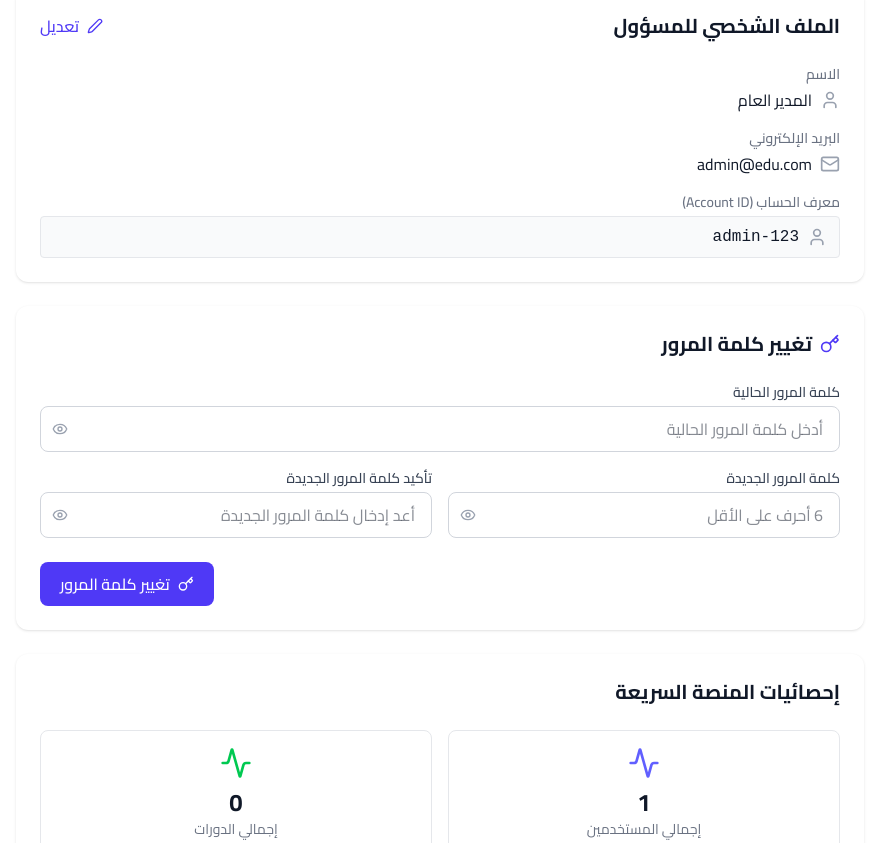
Scenario: AdminProfilePage - Password Change Component › shows validation error when fields are empty
The image size is (881, 843).
What coordinates should you click on to do the following:
click the button "تغيير كلمة المرور"
I would click on:
 (127, 584)
Its box is [40,562,214,606].
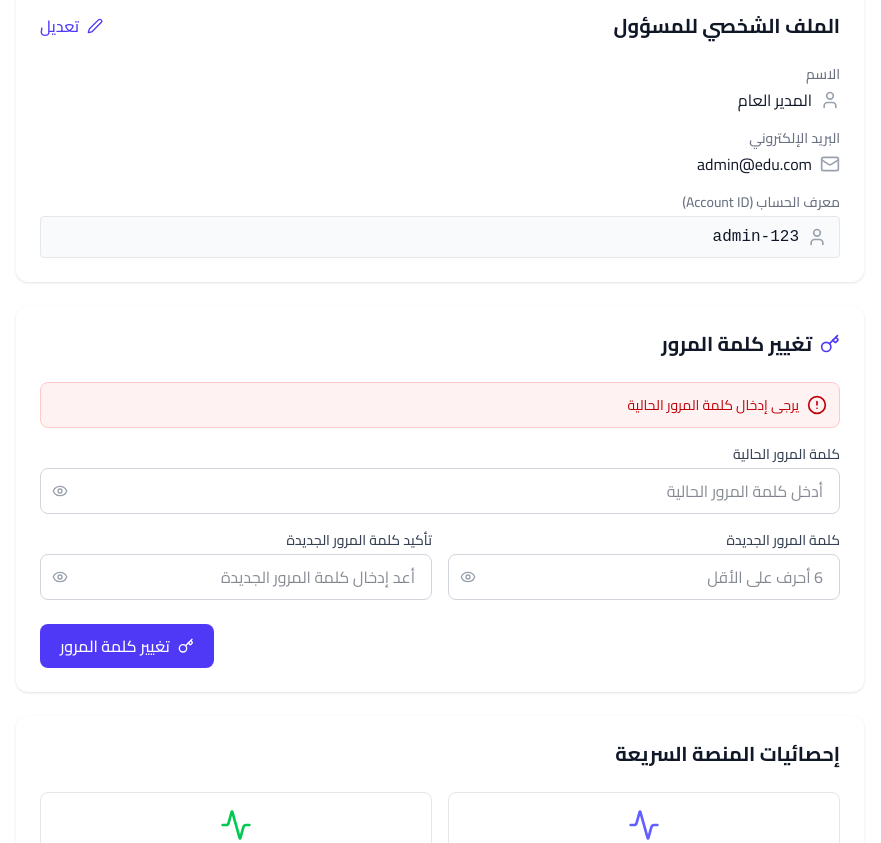
Check: the text "يرجى إدخال كلمة المرور الحالية" is shown, box [627,395,799,415]
